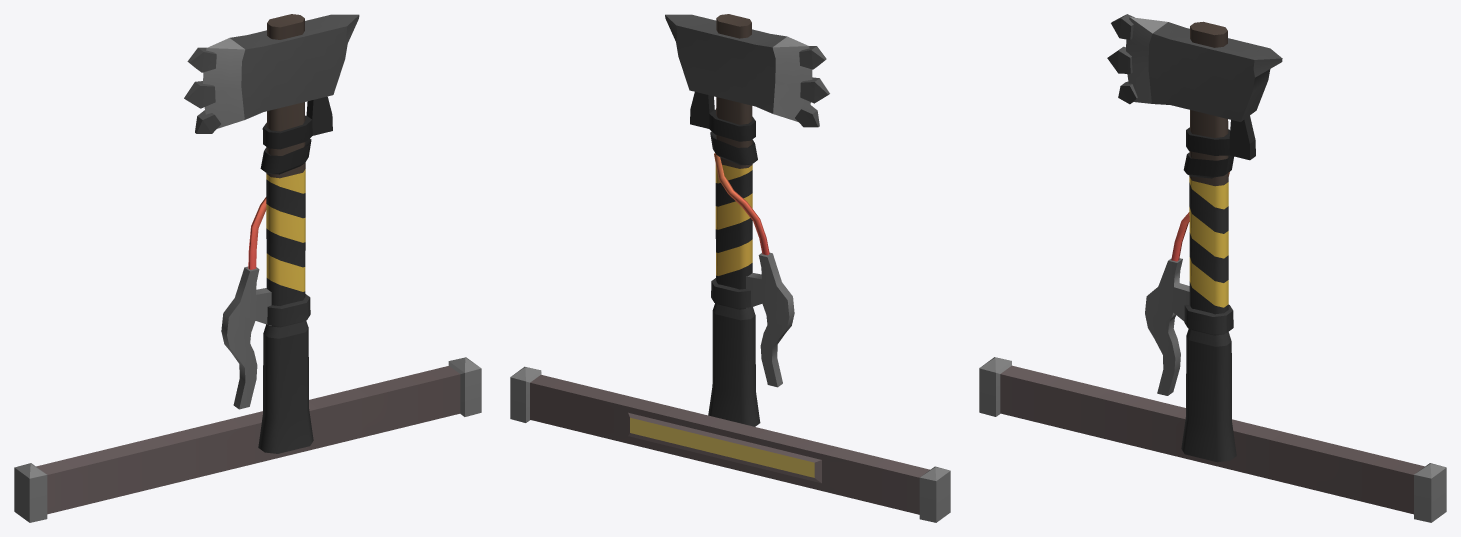
File: firerate_t5_a4.fbx
3 views of the same model, side by side, from view 1: azimuth 30°, elevation 25°; view 2: azimuth 150°, elevation 25°; view 3: azimuth 330°, elevation 25° (orthographic). The views are drawn at different scales.
Visible parts, largest first — view 1: firerate_t5_a4_m, firerate_t5_a4_m_lock; view 2: firerate_t5_a4_m, firerate_t5_a4_m_lock; view 3: firerate_t5_a4_m, firerate_t5_a4_m_lock.
Part boxes in pixels (bbox=[...]): firerate_t5_a4_m: bbox=[184, 14, 359, 453]; firerate_t5_a4_m_lock: bbox=[14, 357, 481, 522]; firerate_t5_a4_m: bbox=[665, 14, 829, 426]; firerate_t5_a4_m_lock: bbox=[510, 366, 950, 522]; firerate_t5_a4_m: bbox=[1107, 14, 1282, 462]; firerate_t5_a4_m_lock: bbox=[979, 357, 1446, 522].
Size of the model in its own units: 5.57 by 5.33 by 0.812.
